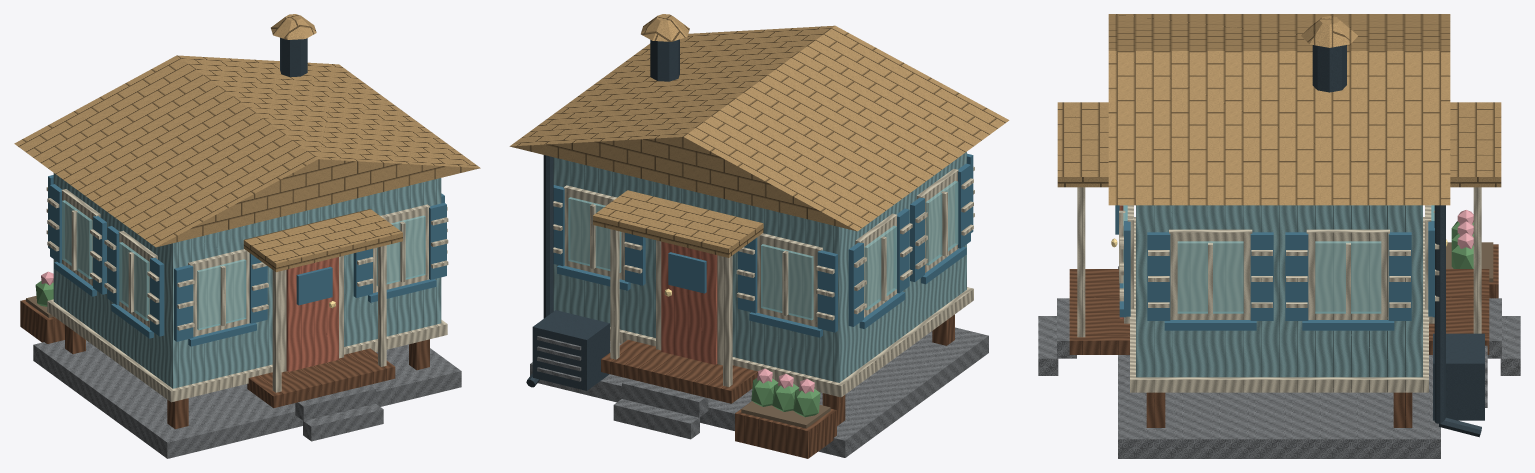
File: house_beach_lv1.glb
The picture shows the model from 3 angles, left to right: view 1: azimuth 30°, elevation 25°; view 2: azimuth 150°, elevation 25°; view 3: azimuth 270°, elevation 25°; orthographic projection. The views are drawn at different scales.
Visible parts, largest first — view 1: gable_roof, walls, foundation, front_porch_canopy, front_door, front_deck, floor_trim, front_window_frame, front_window_glass, front_window_frame.001, front_window_glass.001, left_window_frame.001 (+27 smaller); view 2: gable_roof, walls, foundation, back_porch_canopy, back_door, back_deck, back_ac_unit, back_window_frame, floor_trim, back_window_frame.001, back_garden_bed, back_window_glass (+30 smaller); view 3: gable_roof, walls, foundation, right_window_frame, right_window_frame.001, floor_trim, right_window_glass.001, right_window_glass, back_porch_canopy, front_porch_canopy, front_deck, back_ac_unit (+22 smaller).
Boxes of the visible parts, left/top/right/bottom form: gable_roof: left=14, top=55, right=480, bottom=247; walls: left=53, top=173, right=441, bottom=388; foundation: left=33, top=340, right=461, bottom=458; front_porch_canopy: left=243, top=209, right=402, bottom=272; front_door: left=286, top=257, right=338, bottom=371; front_deck: left=247, top=348, right=395, bottom=408; floor_trim: left=47, top=299, right=447, bottom=402; front_window_frame: left=188, top=249, right=249, bottom=336; front_window_glass: left=197, top=259, right=246, bottom=330; front_window_frame.001: left=373, top=204, right=430, bottom=292; front_window_glass.001: left=376, top=215, right=425, bottom=285; left_window_frame.001: left=61, top=189, right=100, bottom=285; gable_roof: left=509, top=25, right=1009, bottom=231; walls: left=553, top=152, right=966, bottom=382; foundation: left=530, top=327, right=988, bottom=457; back_porch_canopy: left=593, top=190, right=763, bottom=257; back_door: left=661, top=241, right=717, bottom=364; back_deck: left=601, top=339, right=757, bottom=403; back_ac_unit: left=532, top=310, right=609, bottom=390; back_window_frame: left=757, top=233, right=822, bottom=327; floor_trim: left=610, top=287, right=973, bottom=397; back_window_frame.001: left=563, top=185, right=624, bottom=280; back_garden_bed: left=735, top=401, right=836, bottom=458; back_window_glass: left=761, top=244, right=813, bottom=320; gable_roof: left=1108, top=14, right=1450, bottom=205; walls: left=1136, top=205, right=1422, bottom=377; foundation: left=1118, top=266, right=1440, bottom=458; right_window_frame: left=1169, top=229, right=1252, bottom=319; right_window_frame.001: left=1306, top=229, right=1389, bottom=319; floor_trim: left=1130, top=217, right=1428, bottom=392; right_window_glass.001: left=1315, top=241, right=1381, bottom=313; right_window_glass: left=1177, top=241, right=1243, bottom=313; back_porch_canopy: left=1450, top=102, right=1501, bottom=187; front_porch_canopy: left=1057, top=102, right=1108, bottom=187; front_deck: left=1069, top=269, right=1129, bottom=354; back_ac_unit: left=1433, top=333, right=1484, bottom=420.
Size of the model in its own units: 3.15 by 3.01 by 3.36.
Materials: 13 (7 with a texture image).
